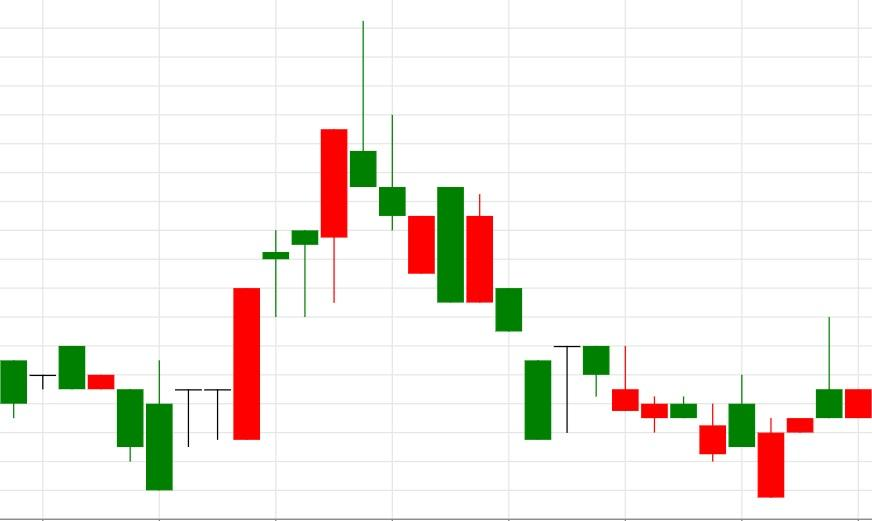shooting_star_fall: (145, 21, 378, 490)
